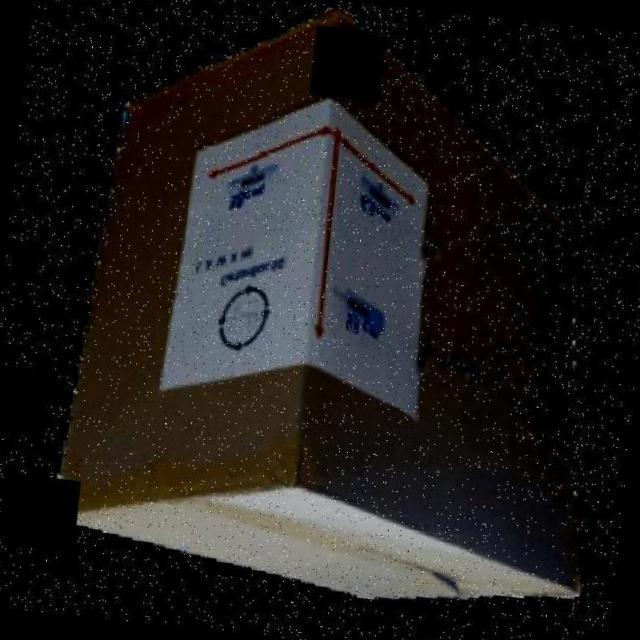box: (27, 0, 640, 623)
